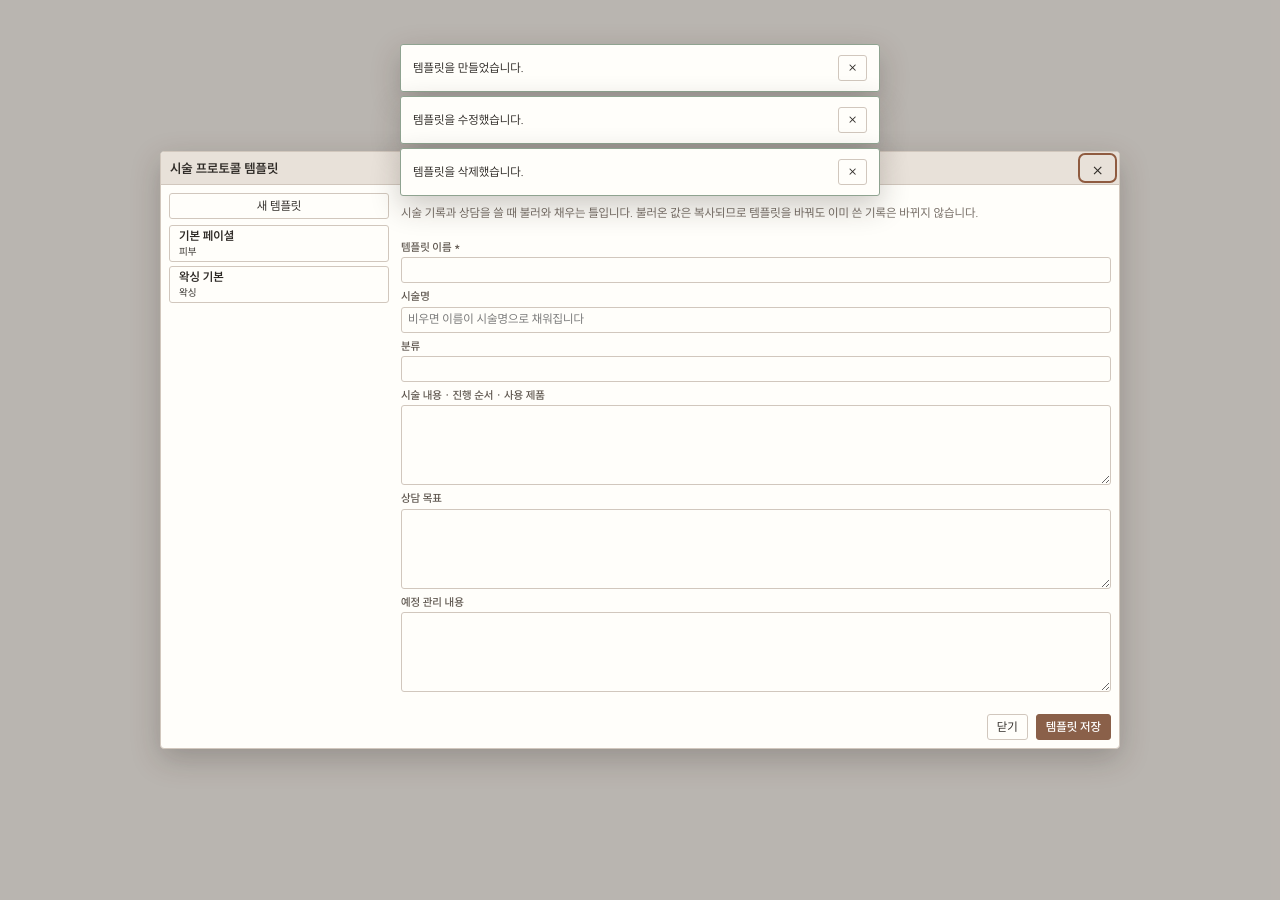
Test: TemplateManagerDialog (TRT-12) › 권한이 없으면(403) 안내하고 입력을 유지한다
The image size is (1280, 900).
Expected: the button "기본 페이셜 피부" is shown, [169, 225, 389, 262]
Type "새것" into the field labelled "템플릿 이름 *" at (756, 270), box [401, 257, 1111, 283]
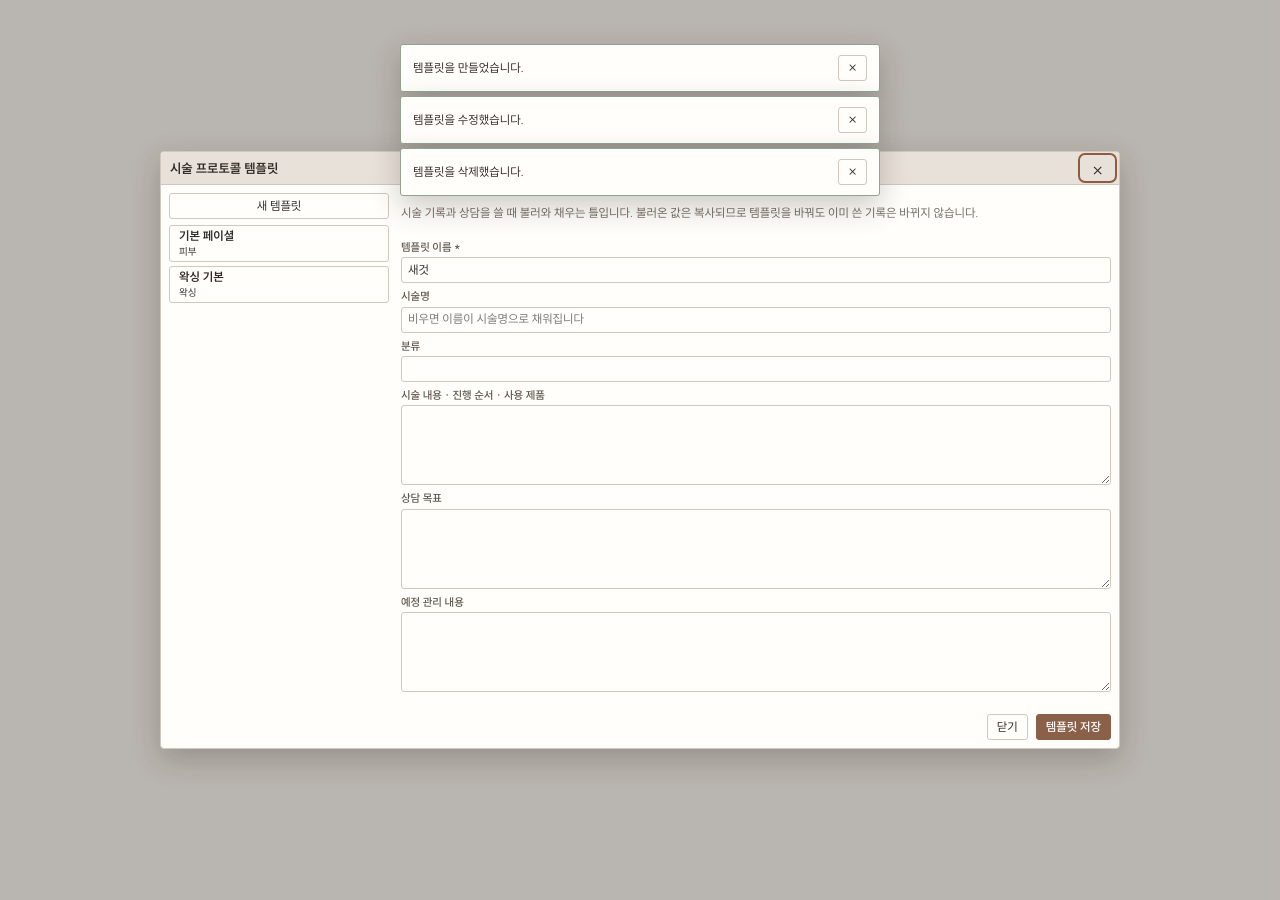
Click the button "템플릿 저장" at (1073, 727), box [1036, 714, 1111, 740]
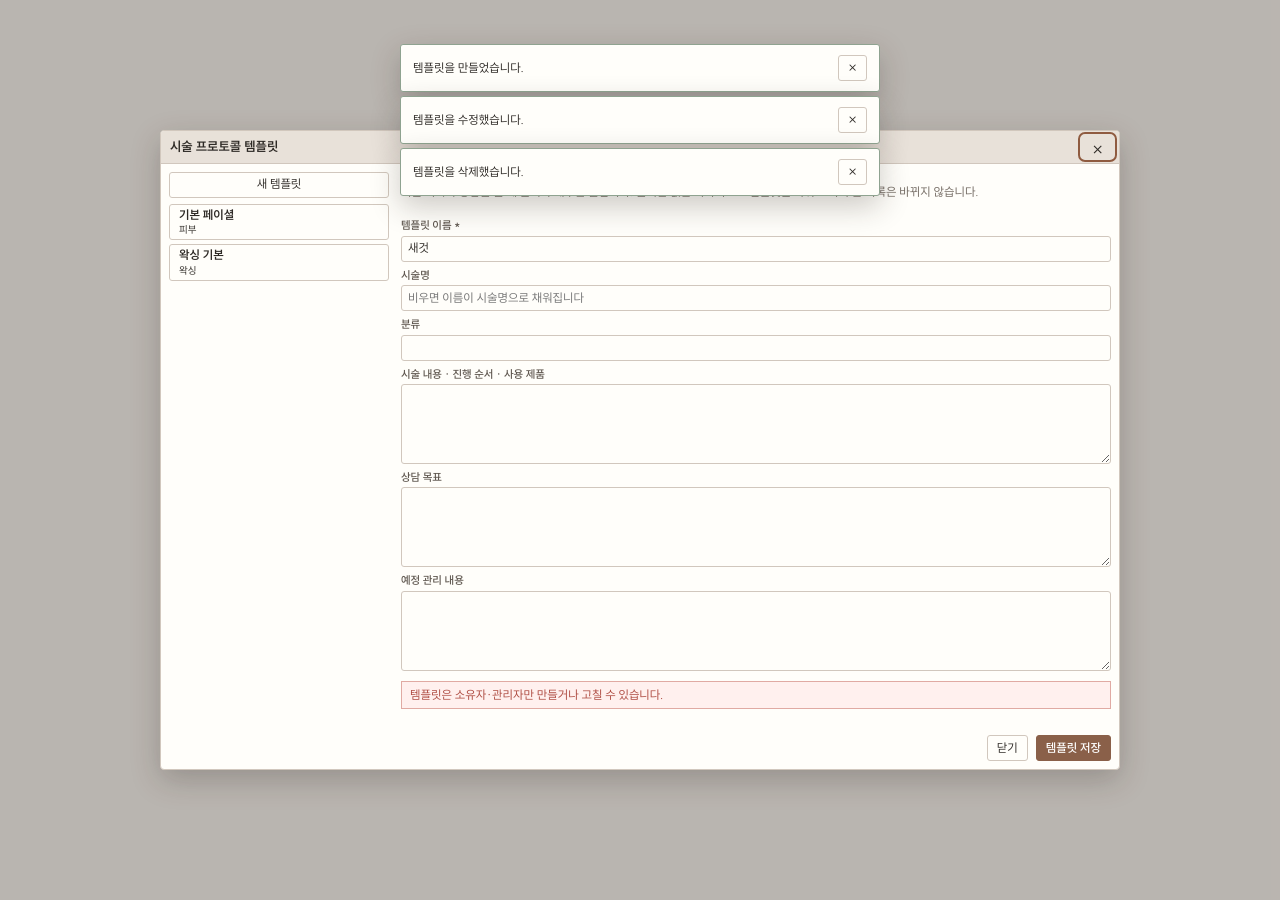
Expected: the message "템플릿은 소유자·관리자만 만들거나 고칠 수 있습니다." is shown, [401, 681, 1111, 710]
